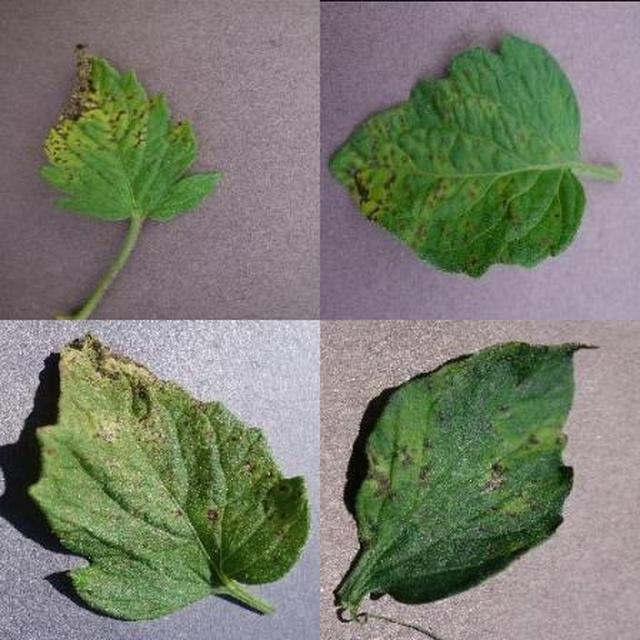Septoria Leaf: (189, 192, 640, 640)
